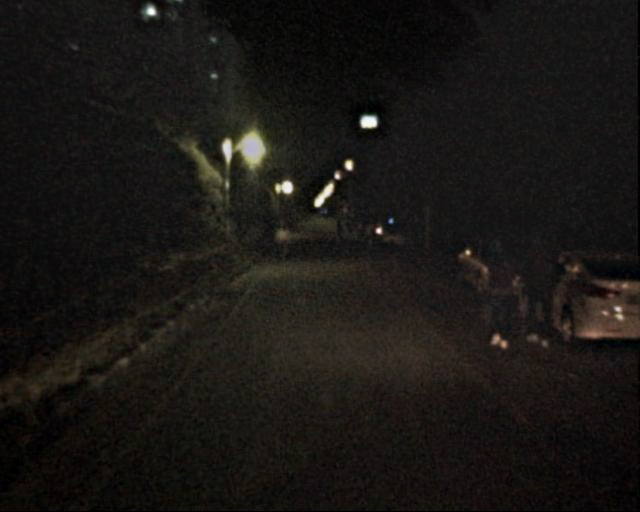person: (512, 230, 563, 349), (473, 240, 525, 353), (272, 218, 290, 263), (363, 222, 378, 256), (336, 220, 355, 240)
